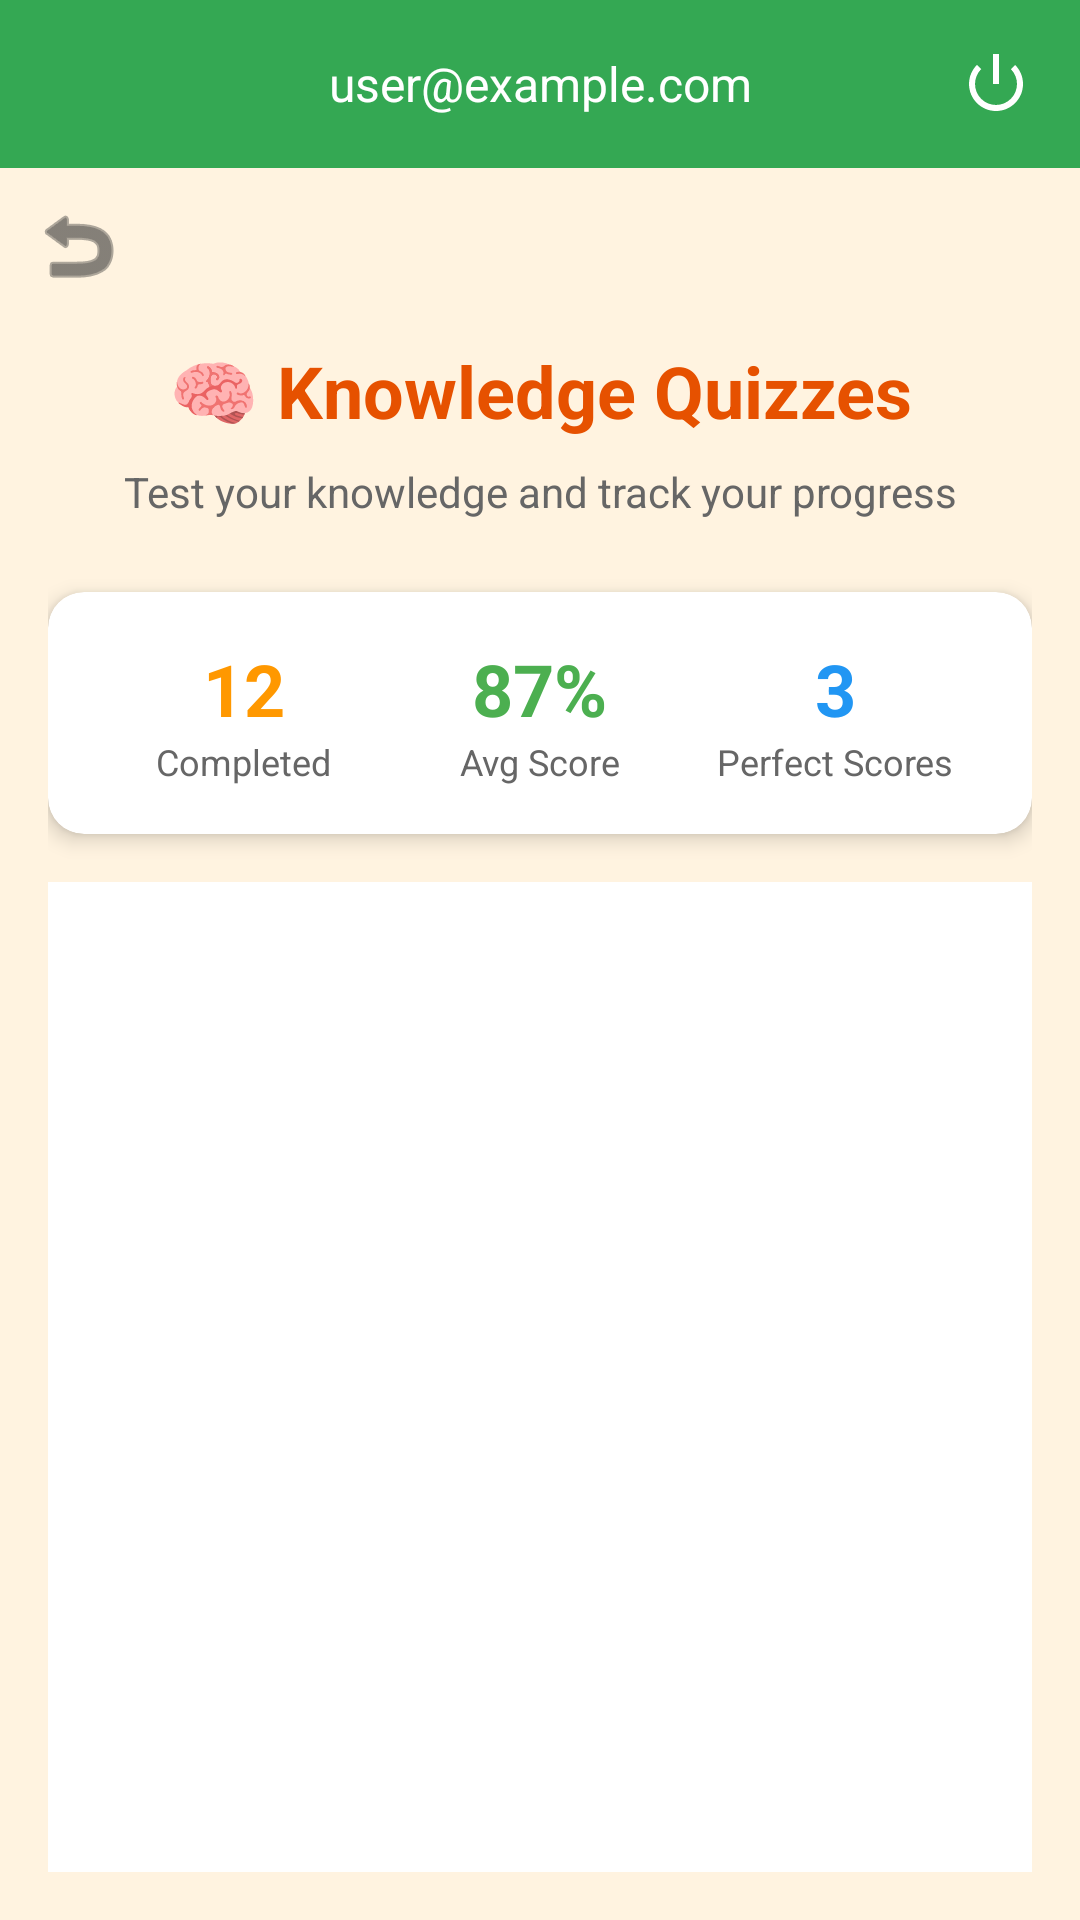

Icons on this 1080×1920 Android screen, each with its box as (left=x1, top=y1, right=x2, bottom=y2):
Back: (left=45, top=215, right=114, bottom=278)
